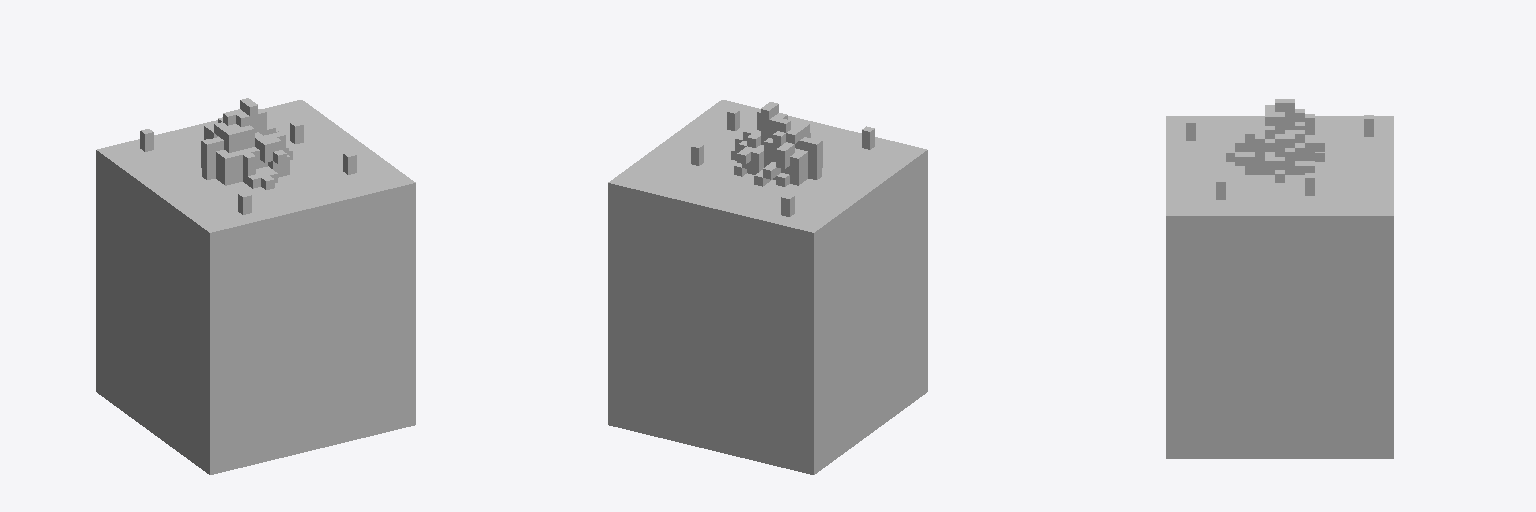
File: tapak8 semak.obj
The picture shows the model from 3 angles: view 1: azimuth 30°, elevation 25°; view 2: azimuth 150°, elevation 25°; view 3: azimuth 270°, elevation 25°; orthographic projection.
Bounding box in the file's own units: 24 × 34 × 23.